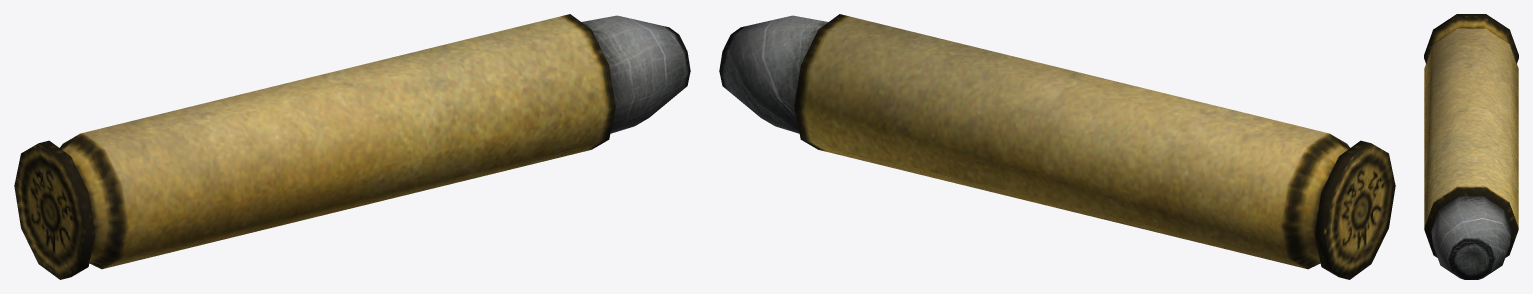
Rendered from WWGPistol_0_Ammo.fbx.
3 views of the same model, side by side, from view 1: azimuth 30°, elevation 25°; view 2: azimuth 150°, elevation 25°; view 3: azimuth 270°, elevation 25° (orthographic). The views are drawn at different scales.
Visible parts, largest first — view 1: Sleeve_S&W, Bullet_S&W; view 2: Sleeve_S&W, Bullet_S&W; view 3: Sleeve_S&W, Bullet_S&W.
Boxes of the visible parts, <box> form: Sleeve_S&W: <box>14,14,615,279</box>; Bullet_S&W: <box>581,15,690,133</box>; Sleeve_S&W: <box>794,14,1395,279</box>; Bullet_S&W: <box>719,15,828,133</box>; Sleeve_S&W: <box>1424,14,1518,257</box>; Bullet_S&W: <box>1431,196,1511,279</box>.
Bounding box in the file's own units: 45.89 × 8.48 × 8.92.
